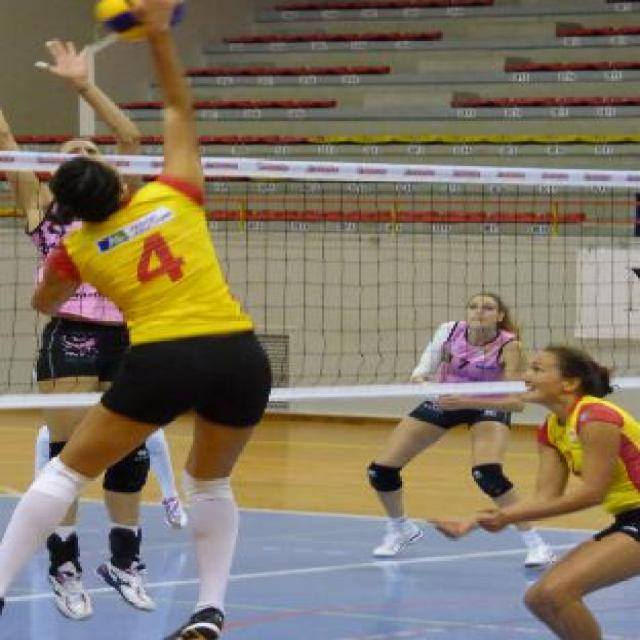Volleyball: (96, 0, 182, 38)
